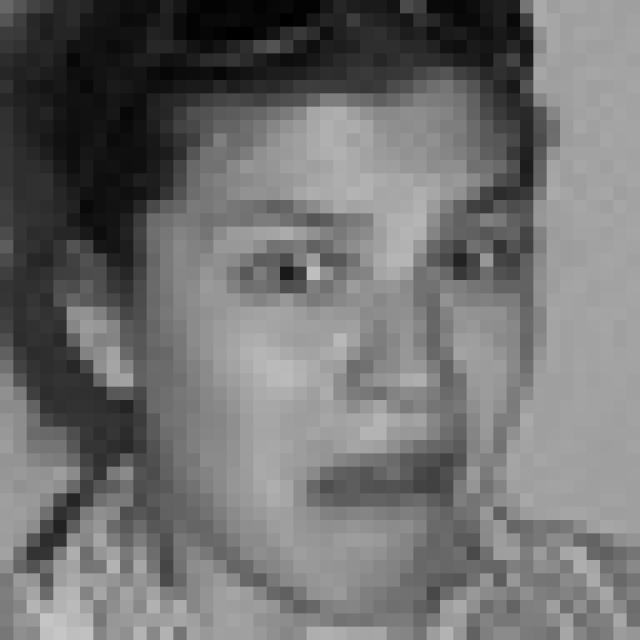fear: (205, 171, 528, 524)
